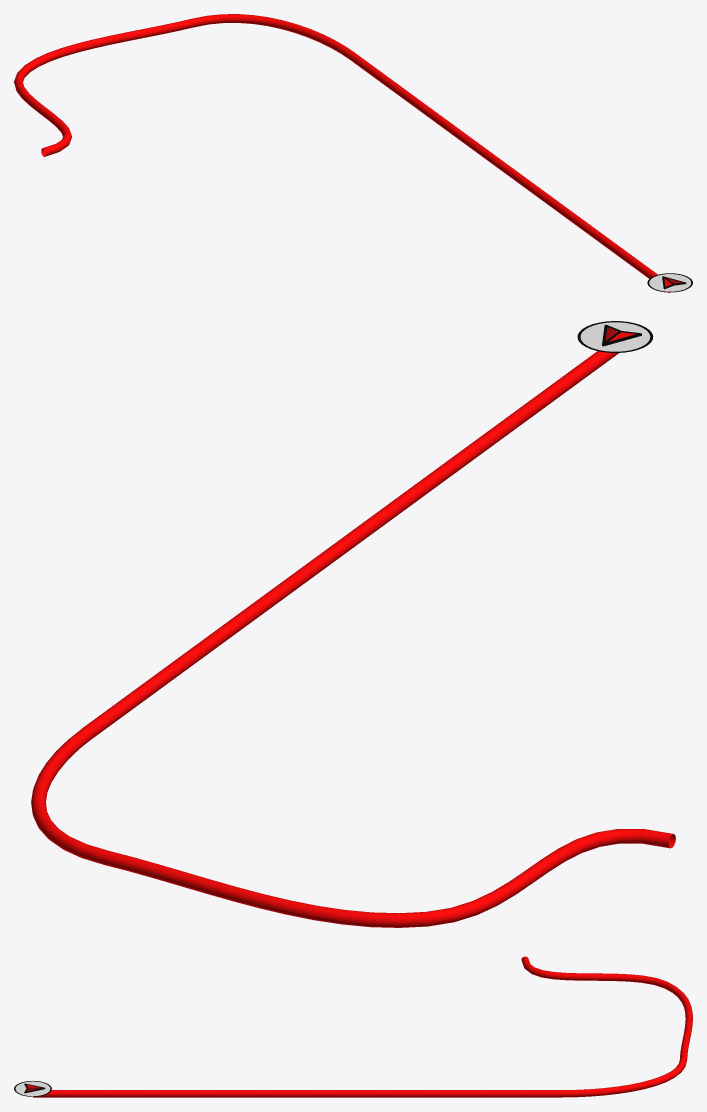
Rendered from route_7a716967-e1da-4595-b9c9-35a28aaae517_en_single.glb.
The picture shows the model from 3 angles, top to bottom: view 1: azimuth 30°, elevation 25°; view 2: azimuth 150°, elevation 25°; view 3: azimuth 270°, elevation 25°; orthographic projection. The views are drawn at different scales.
Visible parts, largest first — view 1: BézierCurve.001, Navipfeil.015; view 2: BézierCurve.001, Navipfeil.015; view 3: BézierCurve.001, Navipfeil.015.
Part boxes in pixels (x1,y1,x2,y2): BézierCurve.001: [14, 14, 670, 292]; Navipfeil.015: [647, 273, 692, 292]; BézierCurve.001: [31, 351, 675, 927]; Navipfeil.015: [577, 321, 653, 352]; BézierCurve.001: [33, 956, 692, 1097]; Navipfeil.015: [14, 1081, 51, 1096].
Size of the model in its own units: 3.62 by 0.109 by 7.32.
